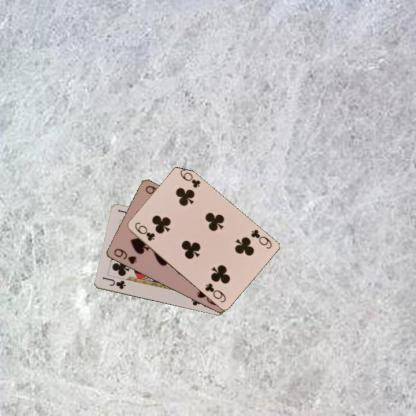6c: (248, 227, 273, 250), (132, 220, 156, 242)
9s: (111, 246, 138, 265)
Jc: (100, 274, 126, 290)
